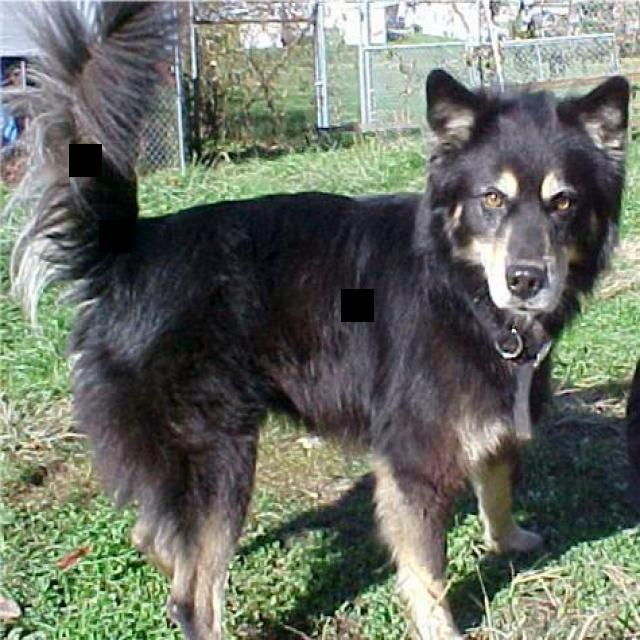adult_dog: (11, 3, 635, 640)
